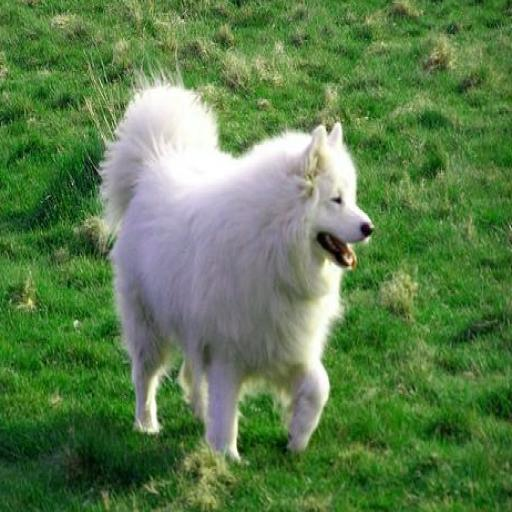dog_face: (298, 126, 375, 284)
